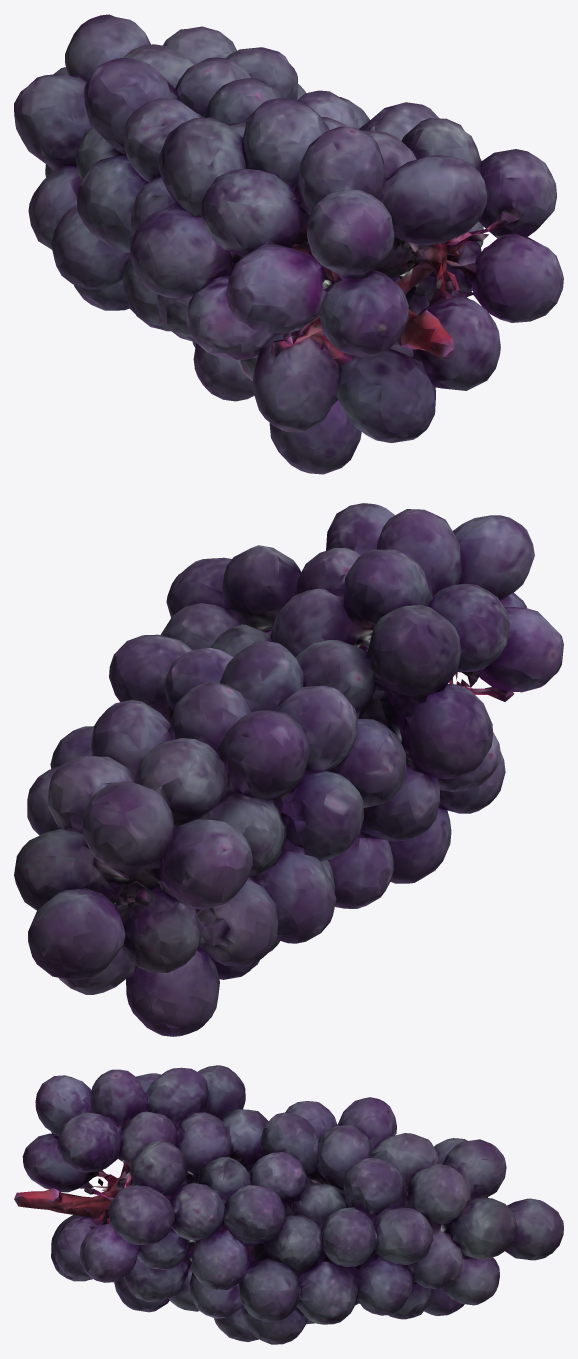
Rendered from PurpleFruitGrapes.fbx.
3 renders of one model, top to bottom at view 1: azimuth 30°, elevation 25°; view 2: azimuth 150°, elevation 25°; view 3: azimuth 270°, elevation 25°, orthographic. The views are drawn at different scales.
Parts seen in each view (by area): view 1: Grapes; view 2: Grapes; view 3: Grapes.
Part boxes in pixels (bbox=[...]): Grapes: bbox=[14, 14, 563, 474]; Grapes: bbox=[14, 503, 563, 1036]; Grapes: bbox=[14, 1065, 563, 1344].
Bounding box in the file's own units: 0.1012 × 0.1948 × 0.0953.
Materials: 1 (1 with a texture image).
